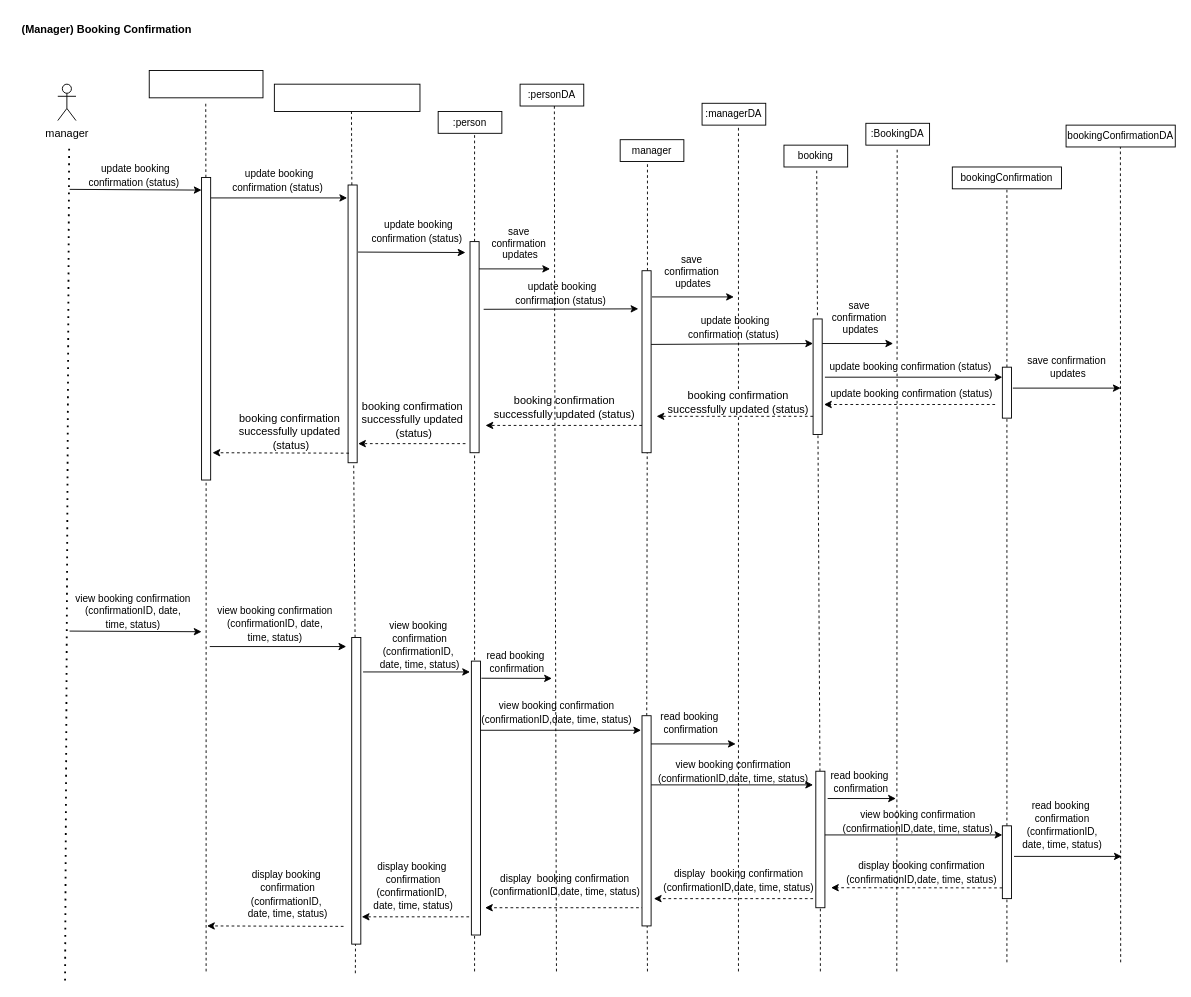
The diagram is 1191 pixels wide and 997 high, and some of its shapes have lost their labels. Here are the shapes that lost their labels. From the top down, the box of each, then its label:
(148, 70, 263, 98): << view Layer >> Booking Confirmation
(273, 83, 420, 111): << controller >> BookingConfirmationHandler
